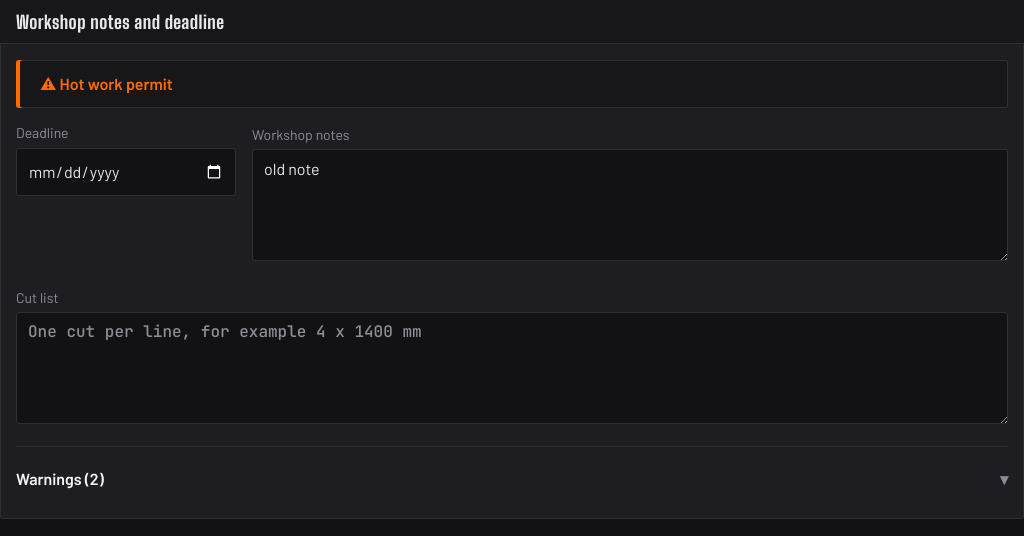
Test: WorkshopNotes › saves the notes on blur and says so
Replace the text in the text box labelled "Workshop notes" with "Bring the jig". click: (630, 205)
box: [252,149,1008,261]
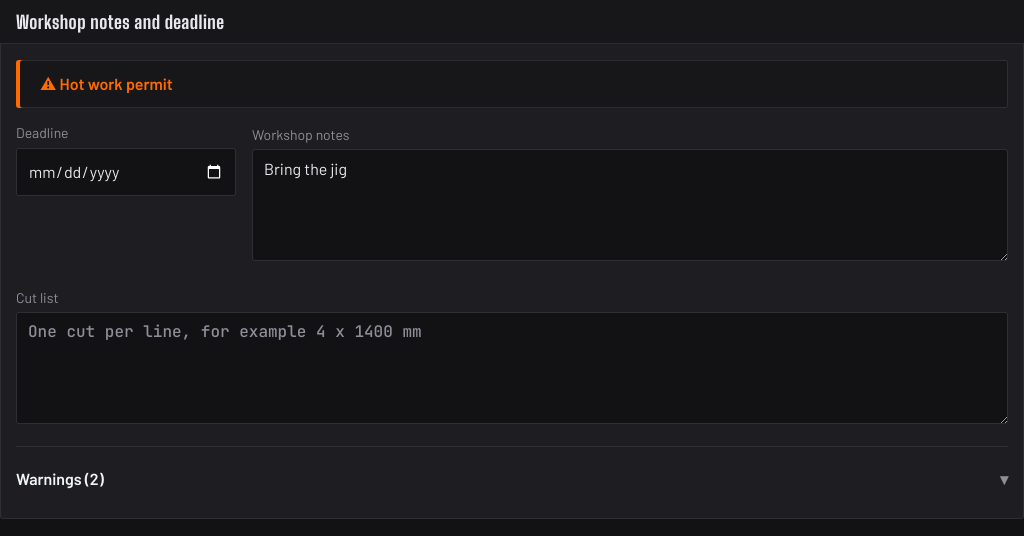
Leave the text box labelled "Workshop notes", box [252,149,1008,261]
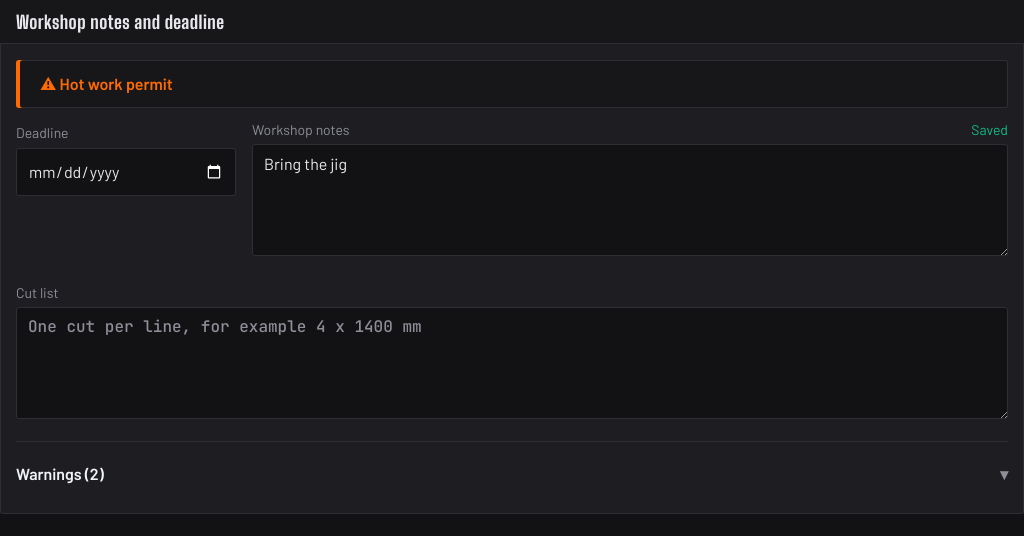
Check: the text "Saved" is shown, box [971,121,1008,138]
